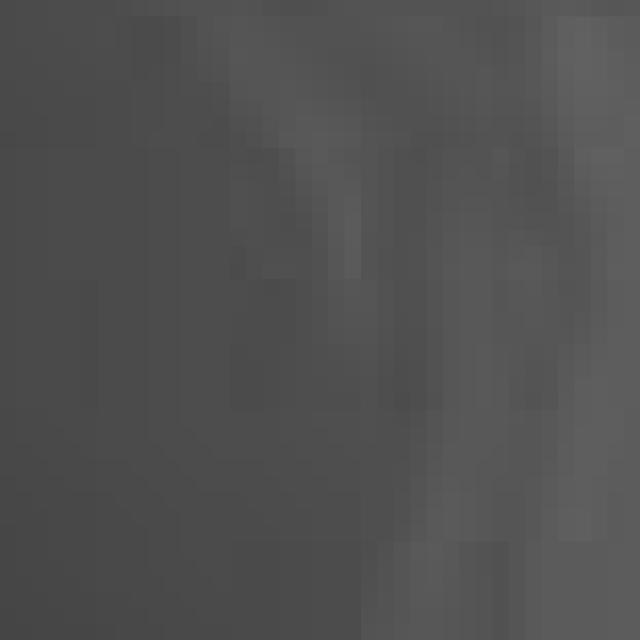fracture: (0, 2, 640, 640)
